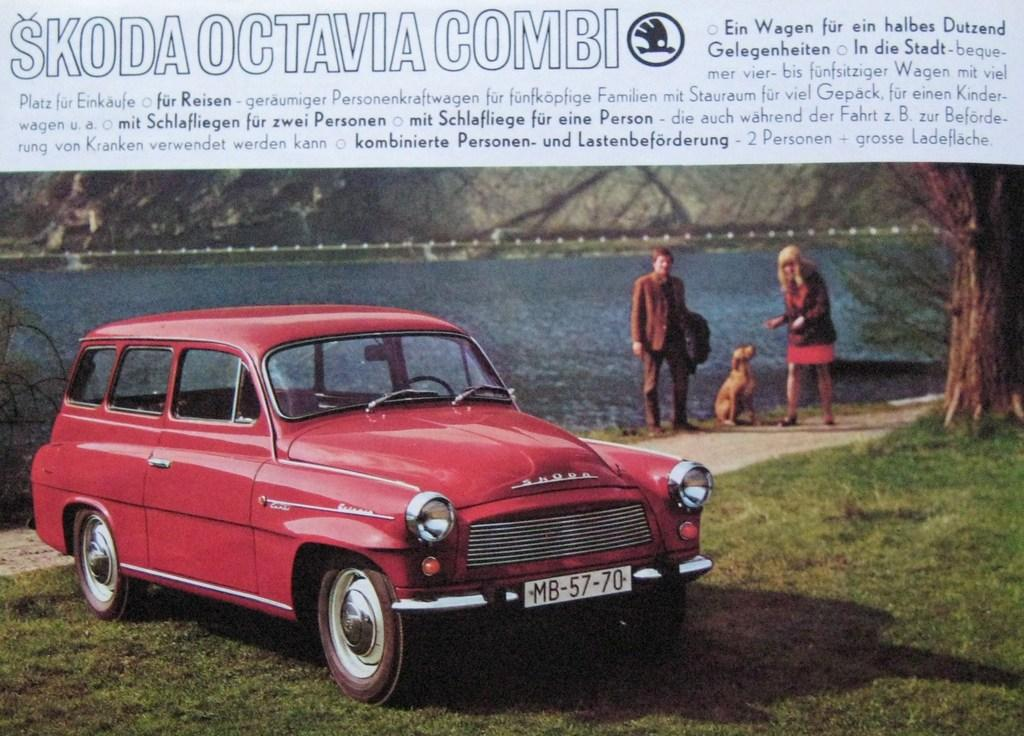Car: (31, 304, 716, 708)
